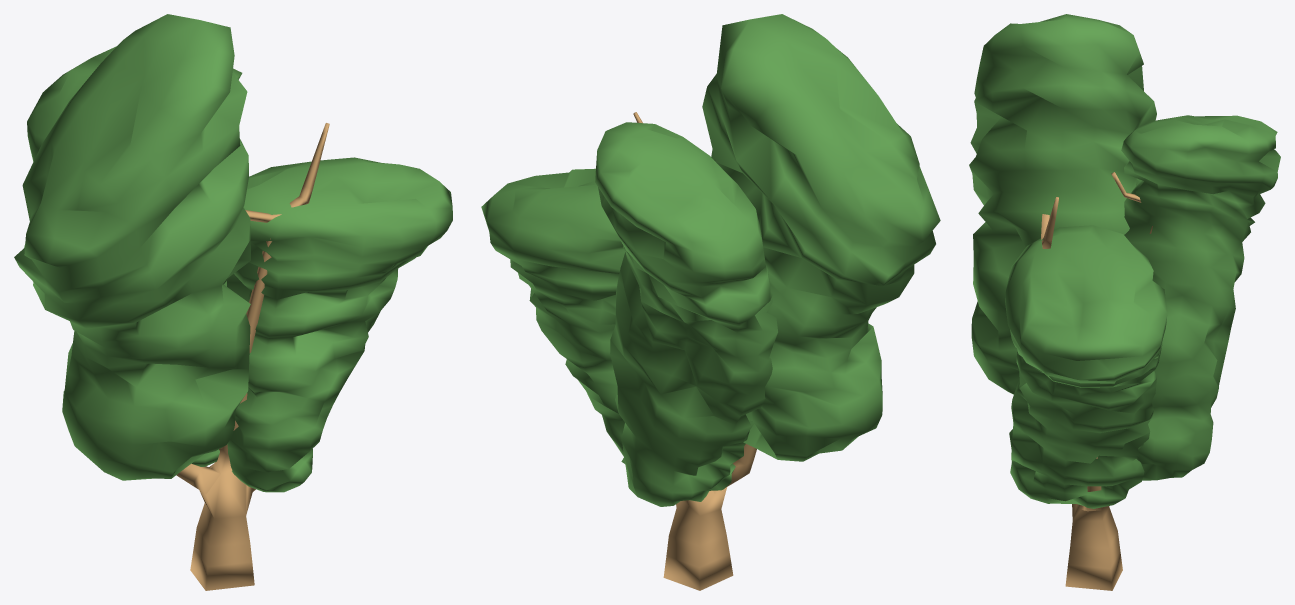
Rendered from tree_07.gltf.
3 renders of one model, left to right at view 1: azimuth 30°, elevation 25°; view 2: azimuth 150°, elevation 25°; view 3: azimuth 270°, elevation 25°, orthographic. The views are drawn at different scales.
Parts seen in each view (by area): view 1: tree_07; view 2: tree_07; view 3: tree_07.
Part boxes in pixels (left/top/right/bottom): tree_07: left=14, top=14, right=452, bottom=590; tree_07: left=481, top=14, right=940, bottom=590; tree_07: left=969, top=14, right=1280, bottom=590.
Bounding box in the file's own units: 3.89 × 4.95 × 2.58.
Materials: 1 (1 with a texture image).
